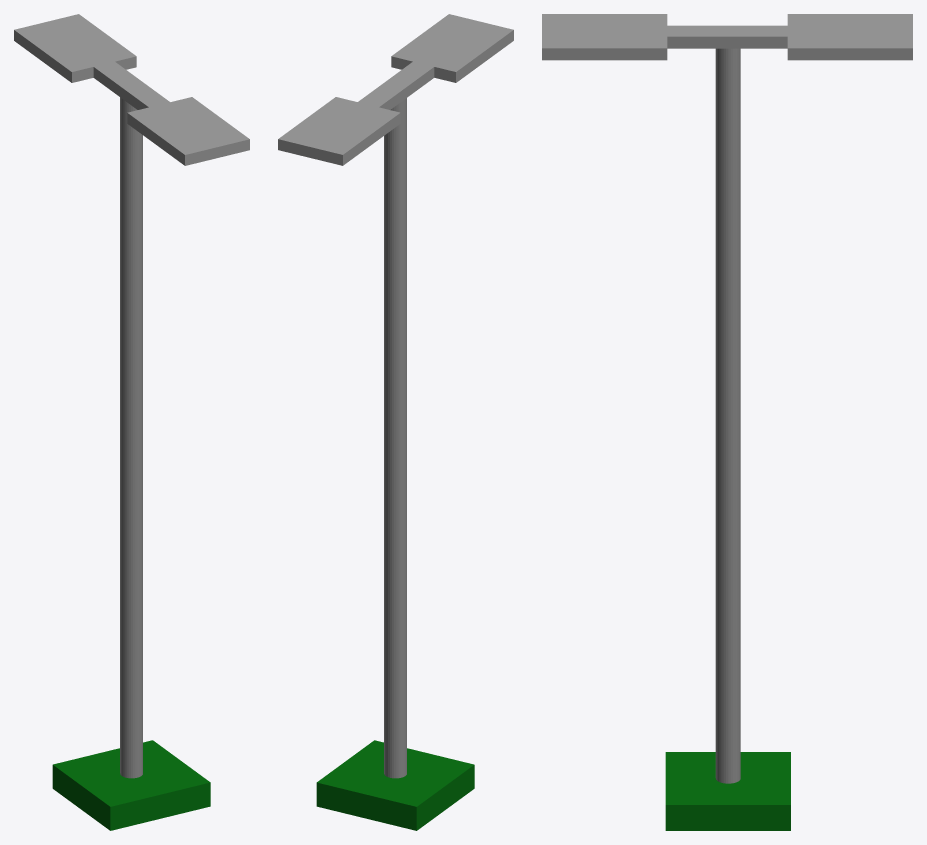
File: Poste.fbx
The picture shows the model from 3 angles, left to right: view 1: azimuth 30°, elevation 25°; view 2: azimuth 150°, elevation 25°; view 3: azimuth 270°, elevation 25°; orthographic projection. The views are drawn at different scales.
Parts seen in each view (by area): view 1: Cube; view 2: Cube; view 3: Cube.
Boxes of the visible parts, <box> form: Cube: <box>14,14,249,830</box>; Cube: <box>278,14,513,830</box>; Cube: <box>542,14,912,830</box>.
Bounding box in the file's own units: 71.44 × 486 × 211.
